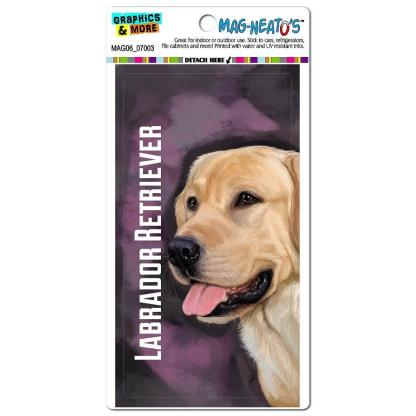Labarador Retriever: (172, 141, 342, 412)
